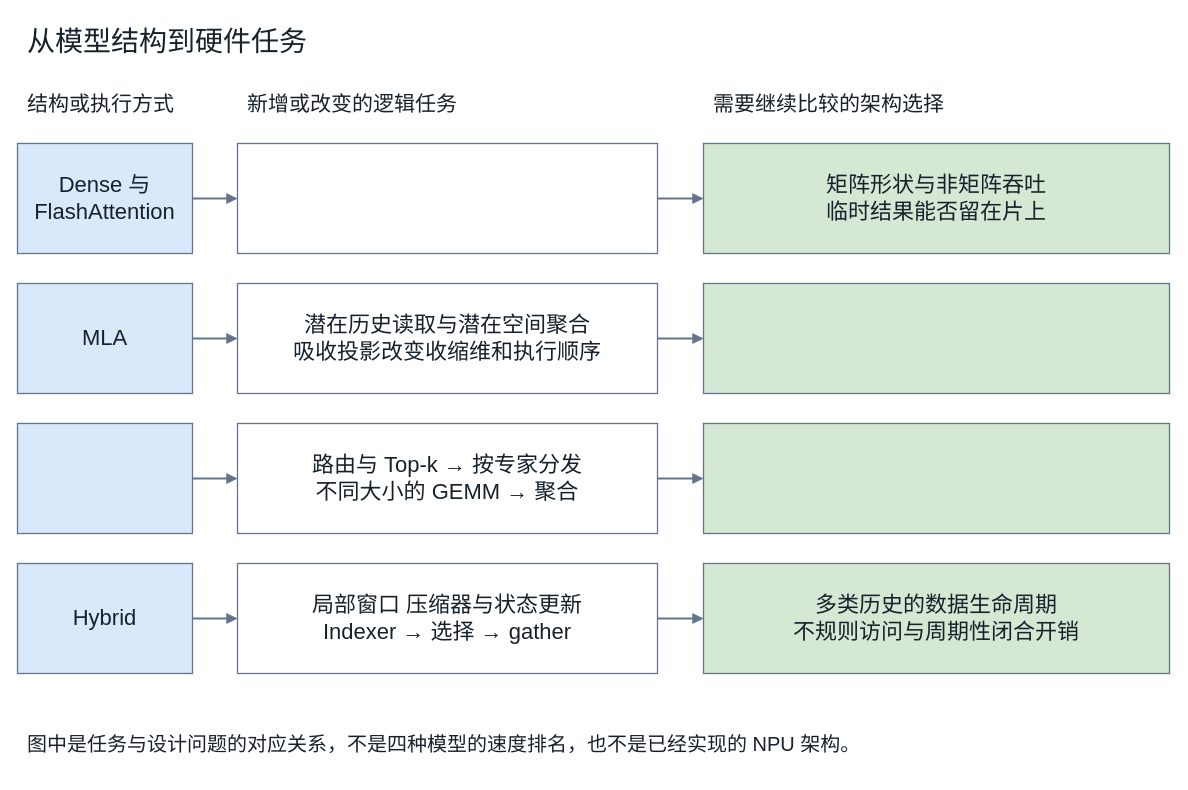
This 1188x790 diagram has some shape labels left out. Each missing label, with the centre of its shape:
MoE: point 104,478
小矩阵组合与负载分布 分发 聚合和任务队列: point 936,478
投影与 FFN 矩阵乘 分块 QK → 在线 Softmax → PV: point 447,198
缓存布局与共享读取 低秩计算的矩阵映射: point 936,338
